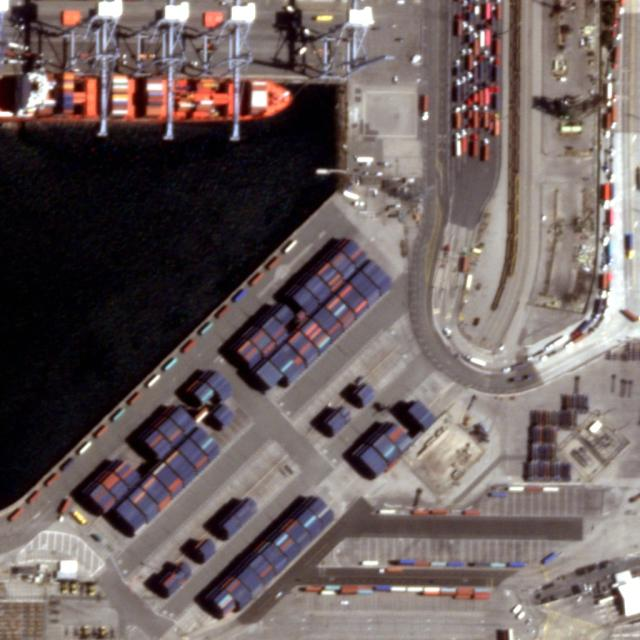boats: (6, 75, 285, 123)
crane: (90, 0, 120, 139), (226, 5, 250, 143), (160, 2, 182, 138)
